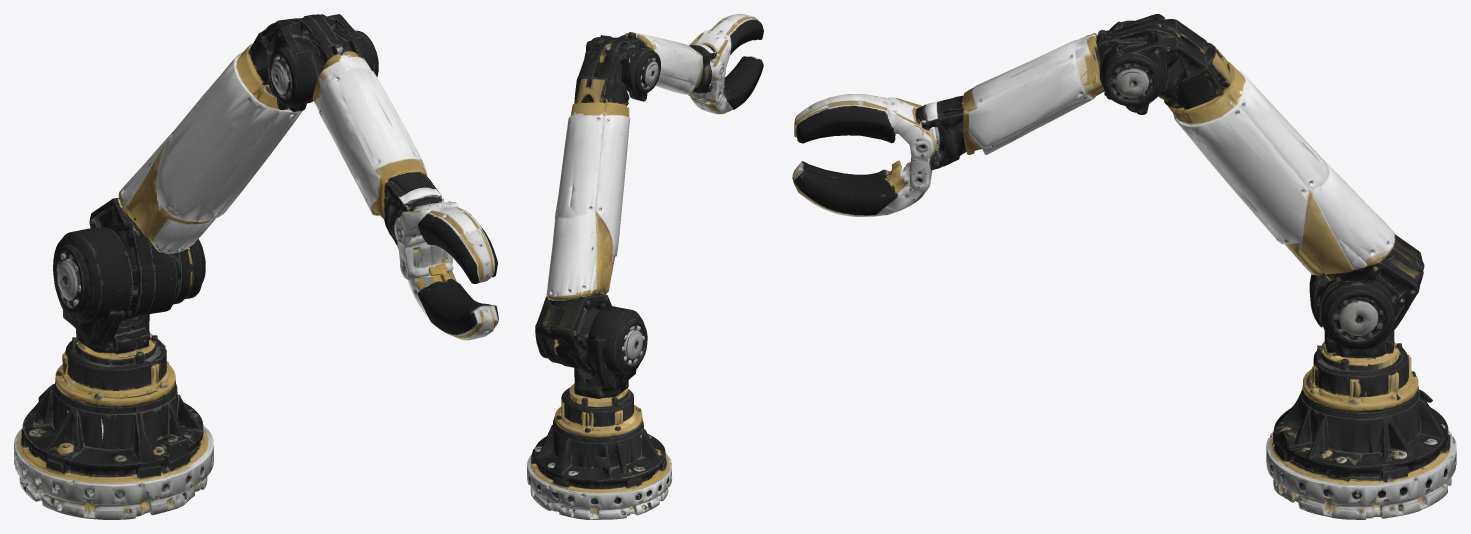
File: caging-arm.glb
The picture shows the model from 3 angles, left to right: view 1: azimuth 30°, elevation 25°; view 2: azimuth 150°, elevation 25°; view 3: azimuth 270°, elevation 25°; orthographic projection. The views are drawn at different scales.
Parts seen in each view (by area): view 1: Mesh_0; view 2: Mesh_0; view 3: Mesh_0.
Boxes of the visible parts, bbox=[...] form: Mesh_0: bbox=[14, 14, 498, 519]; Mesh_0: bbox=[527, 14, 763, 519]; Mesh_0: bbox=[792, 14, 1456, 519].
Bounding box in the file's own units: 0.7428 × 1.66 × 2.
Materials: 1 (1 with a texture image).
